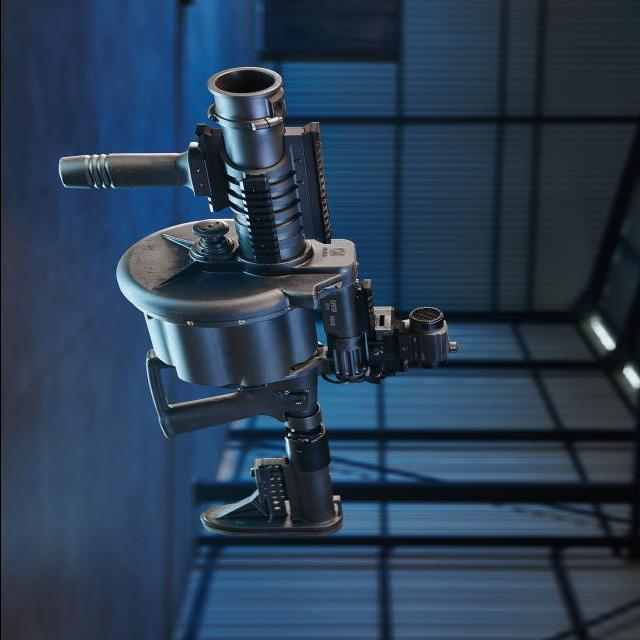rocket launcher: (57, 65, 406, 571)
